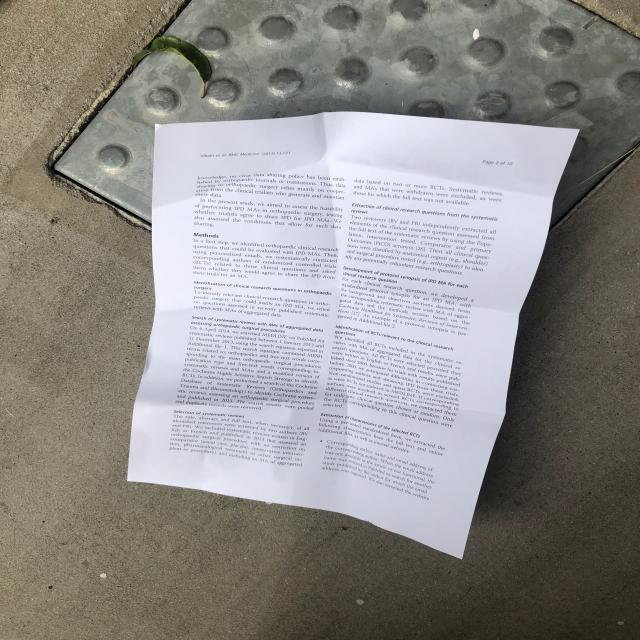kertas: (76, 35, 579, 562)
